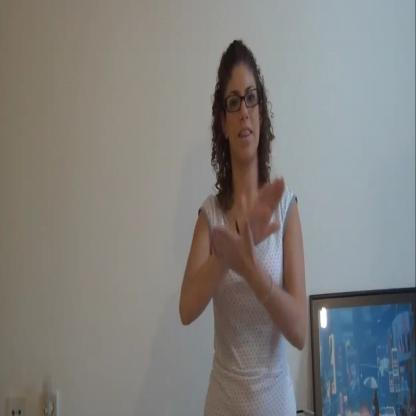NiceToMeetYou: (206, 180, 294, 289)
